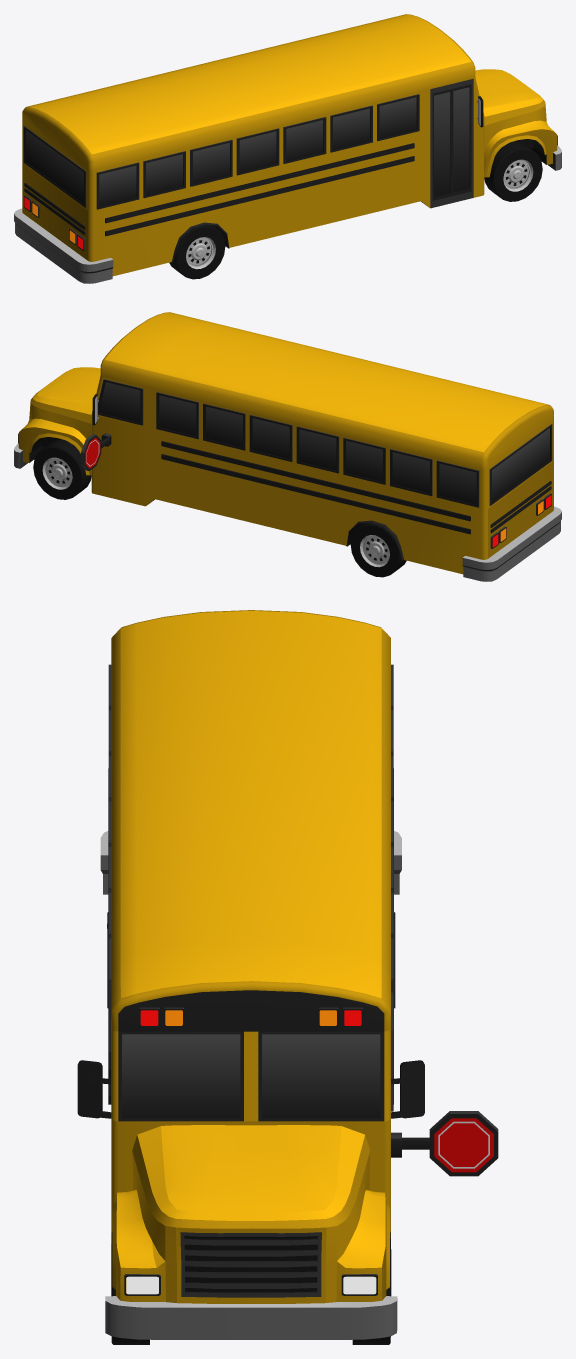
Rendered from Truck_011.glb.
3 views of the same model, one above another, from view 1: azimuth 30°, elevation 25°; view 2: azimuth 150°, elevation 25°; view 3: azimuth 270°, elevation 25° (orthographic). The views are drawn at different scales.
Visible parts, largest first — view 1: Truck_011, wheel_1_Truck_011_Wheel_1R, wheel_3_Truck_011_Wheel_2R; view 2: Truck_011, wheel_0_Truck_011_Wheel_1L, wheel_2_Truck_011_Wheel_2L; view 3: Truck_011.
Boxes of the visible parts, x1,y1,x2,y2 form: Truck_011: (14, 14, 561, 283); wheel_1_Truck_011_Wheel_1R: (484, 142, 542, 201); wheel_3_Truck_011_Wheel_2R: (169, 224, 225, 279); Truck_011: (14, 312, 561, 581); wheel_0_Truck_011_Wheel_1L: (33, 440, 91, 499); wheel_2_Truck_011_Wheel_2L: (350, 522, 406, 577); Truck_011: (77, 610, 498, 1339).
Size of the model in its own units: 7.92 by 2.47 by 2.98.
2 materials, 2 textured.
